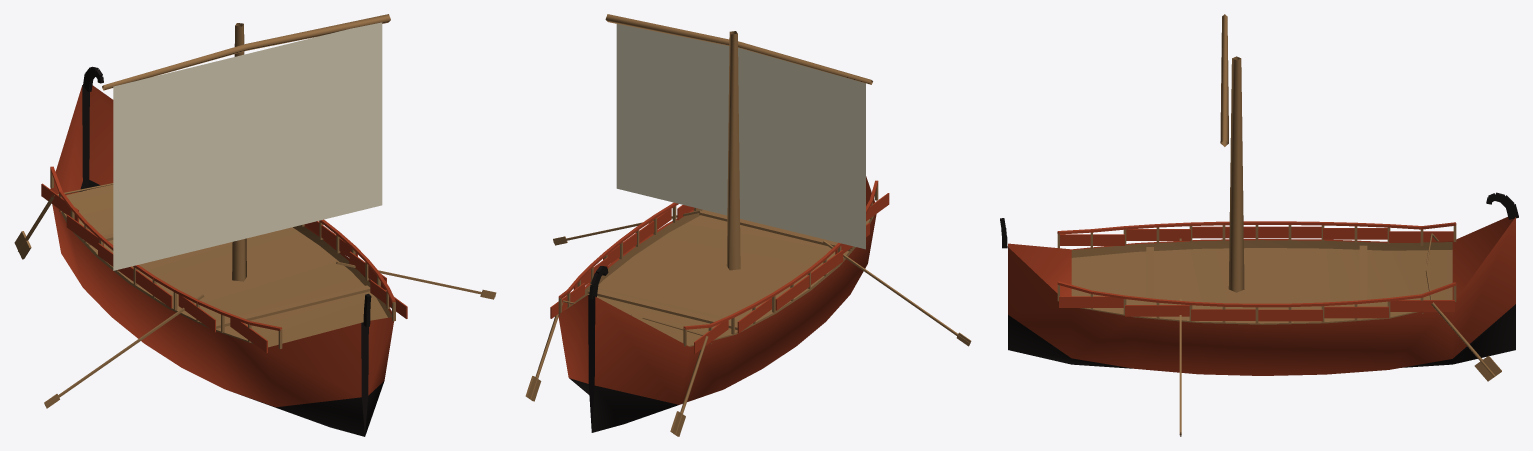
Rendered from ship_merchant_blockout_LOD2.obj.
The picture shows the model from 3 angles, left to right: view 1: azimuth 30°, elevation 25°; view 2: azimuth 150°, elevation 25°; view 3: azimuth 270°, elevation 25°; orthographic projection. The views are drawn at different scales.
Visible parts, largest first — view 1: ship_merchant_blockout_LOD2; view 2: ship_merchant_blockout_LOD2; view 3: ship_merchant_blockout_LOD2.
Boxes of the visible parts, bbox=[...] form: ship_merchant_blockout_LOD2: bbox=[14, 14, 496, 436]; ship_merchant_blockout_LOD2: bbox=[525, 14, 971, 436]; ship_merchant_blockout_LOD2: bbox=[1000, 14, 1518, 436].
Bounding box in the file's own units: 22.17 × 16.12 × 24.21.
